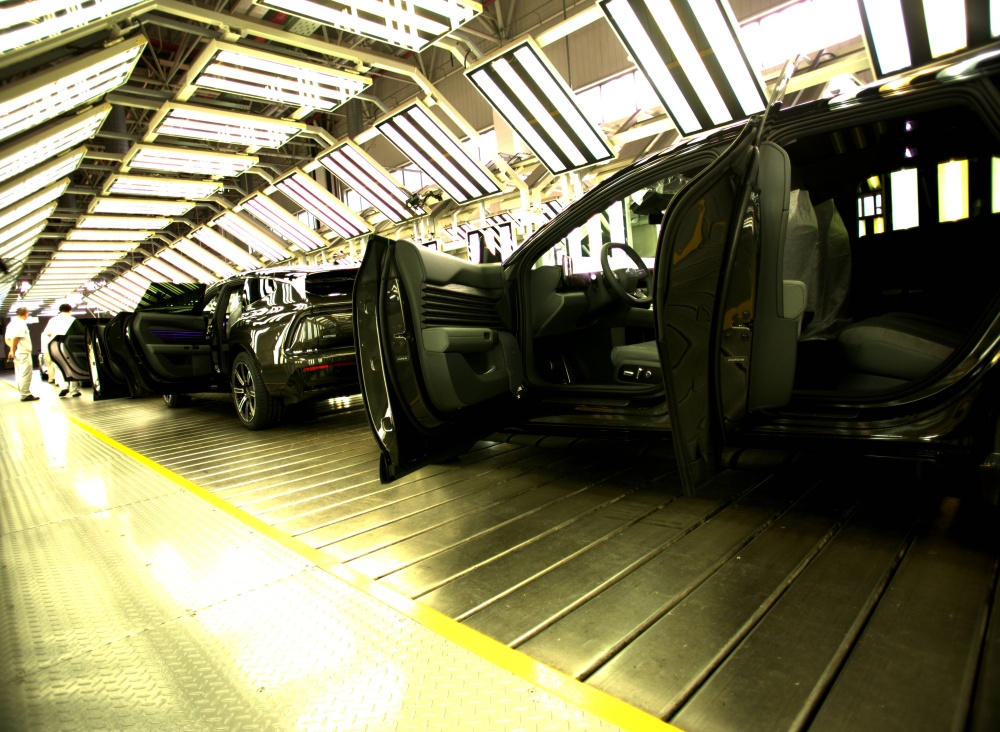armrest_color: (420, 325, 496, 353)
panel_color: (418, 278, 499, 329)
